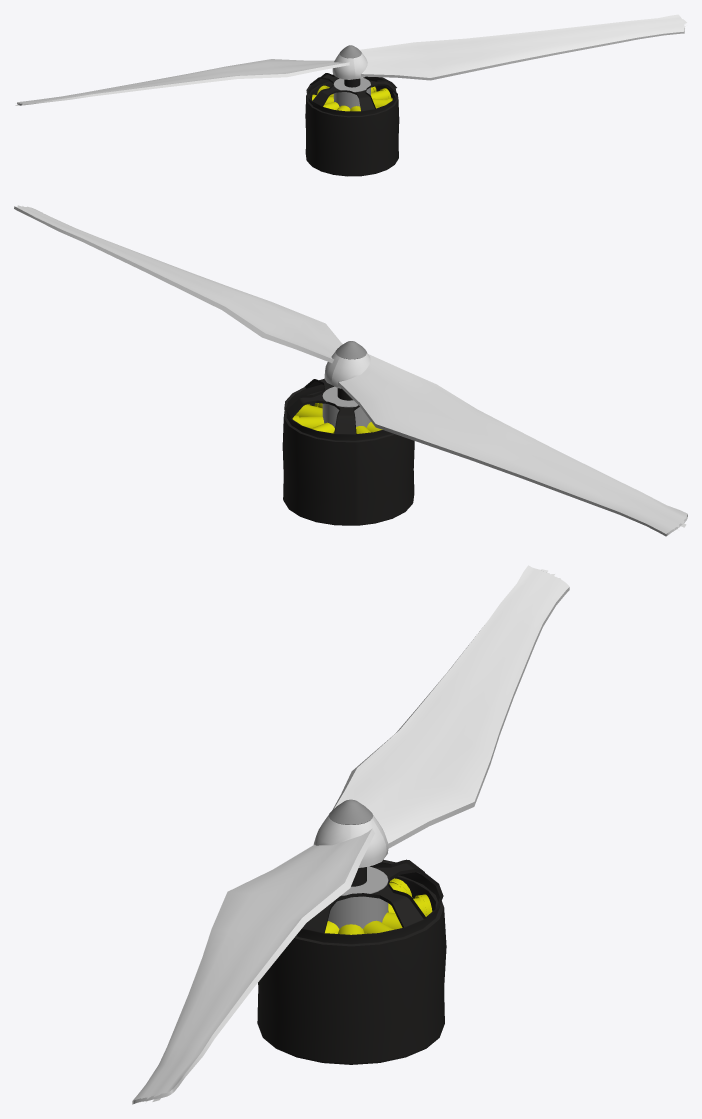
Rendered from motor_type_8.fbx.
3 renders of one model, top to bottom at view 1: azimuth 30°, elevation 25°; view 2: azimuth 150°, elevation 25°; view 3: azimuth 270°, elevation 25°, orthographic. The views are drawn at different scales.
Parts seen in each view (by area): view 1: polySurface27, pCylinder26, pCylinder27; view 2: polySurface27, pCylinder26, pCylinder27; view 3: polySurface27, pCylinder26, pCylinder27, polySurface28.
Part boxes in pixels (box(x1,y1,x2,y2)): polySurface27: box(15, 14, 686, 105); pCylinder26: box(305, 73, 399, 176); pCylinder27: box(333, 78, 370, 108); polySurface27: box(14, 205, 687, 536); pCylinder26: box(282, 378, 414, 525); pCylinder27: box(322, 386, 370, 427); polySurface27: box(132, 565, 569, 1104); pCylinder26: box(257, 859, 446, 1064); pCylinder27: box(328, 866, 388, 928); polySurface28: box(328, 799, 373, 824).
Bounding box in the file's own units: 17.81 × 3.32 × 5.89.
